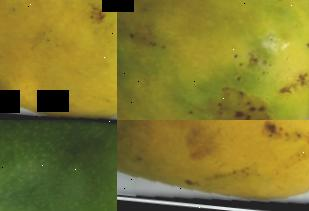PartiallyRipe: (117, 0, 309, 120)
Ripe: (117, 120, 309, 211), (0, 0, 117, 120)
Unripe: (0, 120, 117, 211)
